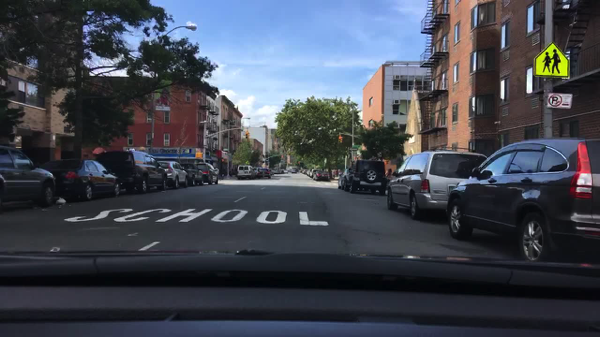car: (446, 139, 598, 264), (386, 149, 485, 218), (39, 159, 119, 201), (1, 146, 55, 206), (98, 151, 168, 193), (343, 160, 385, 195), (156, 161, 188, 188), (196, 162, 219, 185), (180, 162, 202, 186), (235, 164, 255, 180), (336, 168, 349, 189), (313, 171, 329, 181), (255, 168, 271, 178), (308, 168, 321, 178), (288, 166, 296, 174), (251, 166, 257, 176), (264, 169, 272, 176), (300, 170, 308, 176), (305, 169, 311, 176), (276, 169, 284, 174), (271, 168, 276, 176), (286, 169, 292, 174), (292, 166, 296, 171), (298, 169, 303, 173)
motor: (384, 180, 392, 189), (217, 174, 225, 180)
person: (228, 169, 233, 178)
rider: (385, 169, 392, 181), (217, 166, 223, 174)
traffic light: (264, 154, 269, 166), (243, 132, 249, 140), (337, 137, 343, 144), (195, 153, 202, 159), (217, 158, 223, 165), (384, 159, 389, 165), (279, 156, 282, 162)
traffic sign: (533, 42, 568, 78), (543, 93, 573, 109), (154, 106, 170, 111), (349, 147, 357, 152), (286, 154, 290, 164), (352, 145, 360, 149), (224, 154, 231, 157), (323, 158, 325, 165)
